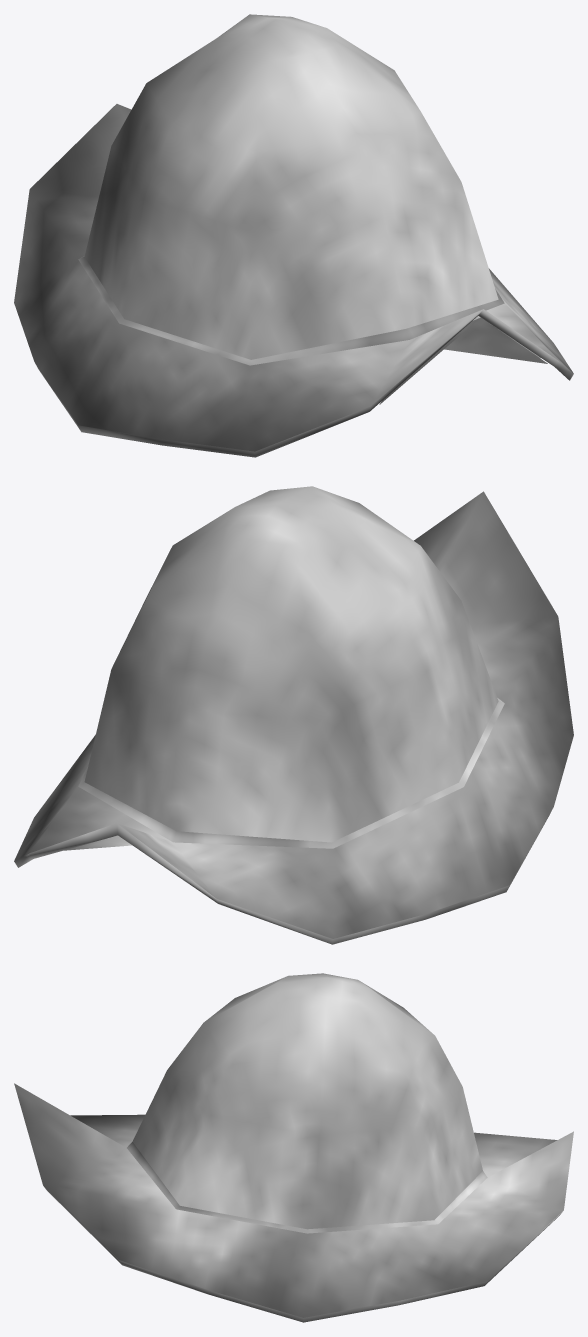
The model's file is helmet_morrion.dae.
The picture shows the model from 3 angles, top to bottom: view 1: azimuth 30°, elevation 25°; view 2: azimuth 150°, elevation 25°; view 3: azimuth 270°, elevation 25°; orthographic projection. The views are drawn at different scales.
Visible parts, largest first — view 1: morrion; view 2: morrion; view 3: morrion.
Part boxes in pixels (x1,y1,x2,y2): morrion: (14,14,573,457); morrion: (14,486,573,944); morrion: (14,973,573,1322).
Bounding box in the file's own units: 0.6017 × 0.8859 × 0.4638.
